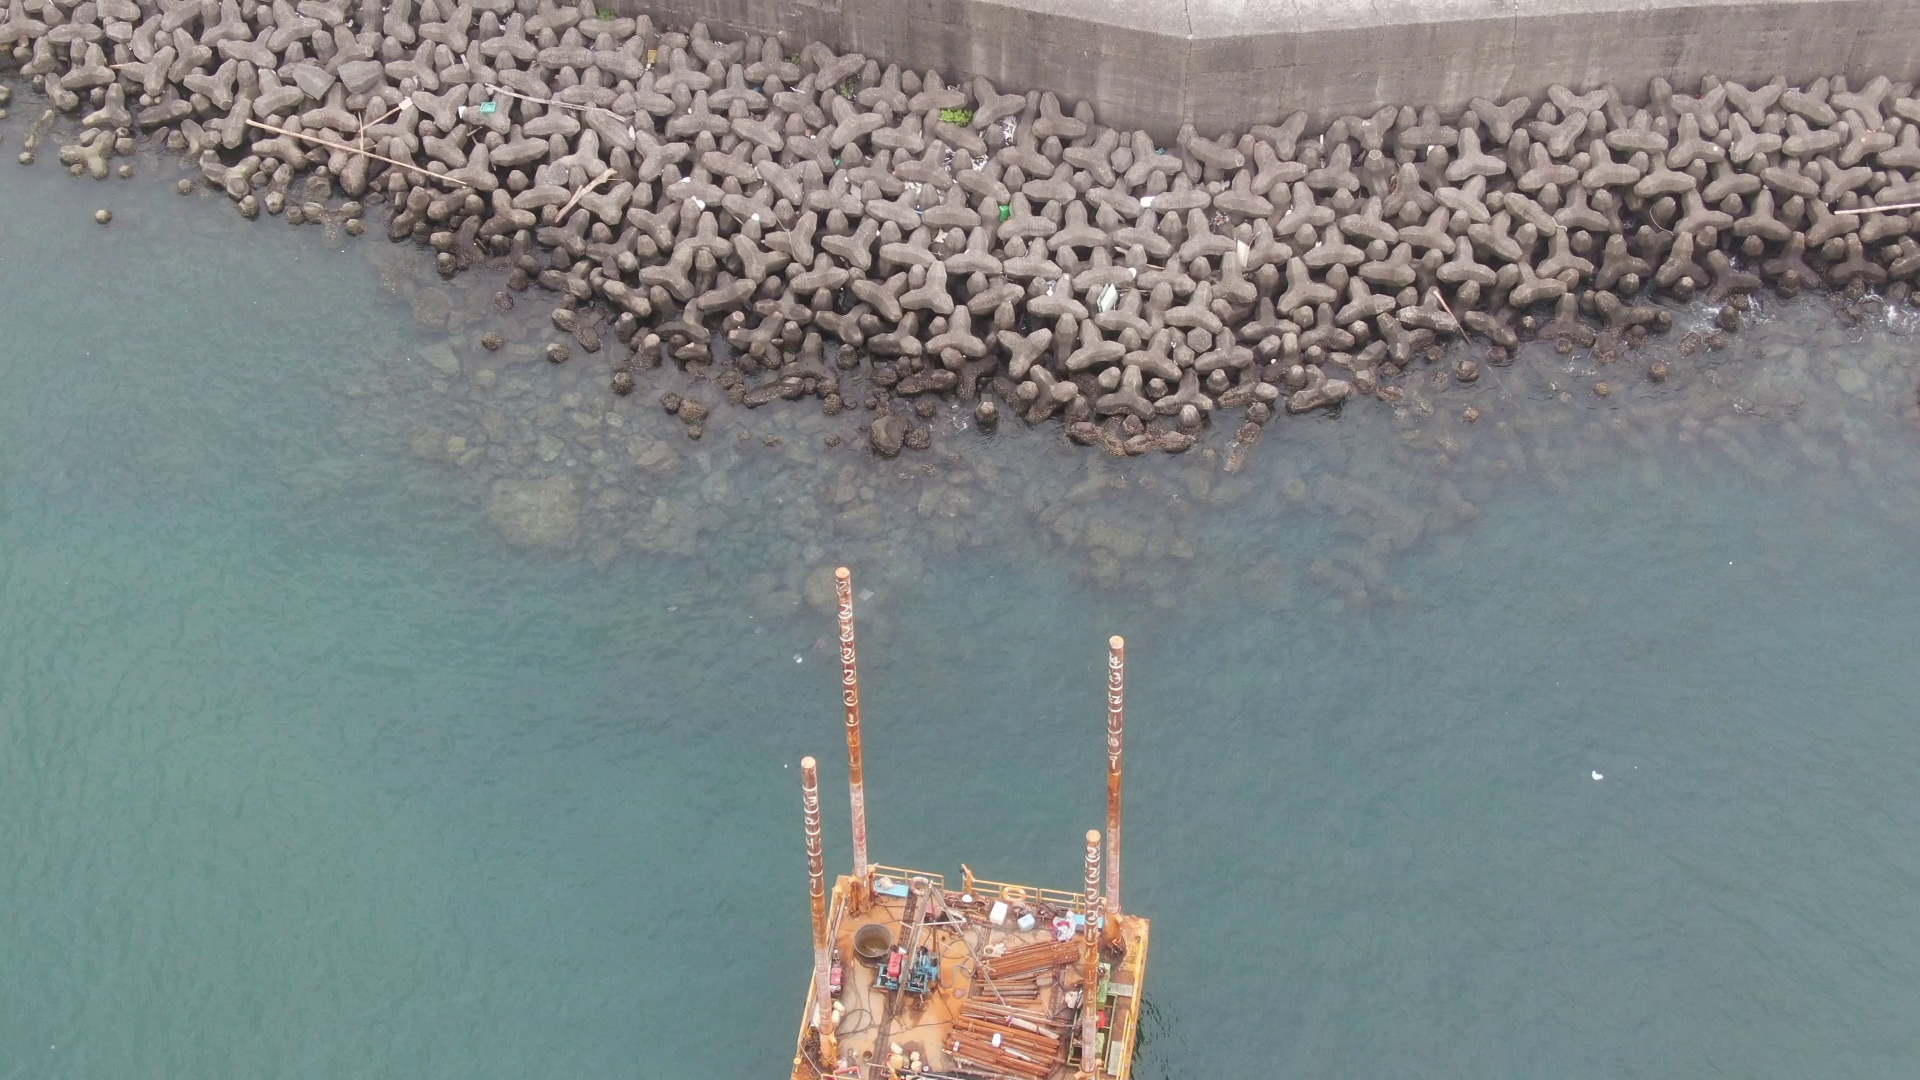garbage: (1091, 277, 1129, 315), (1229, 233, 1259, 272), (992, 196, 1022, 225), (472, 91, 502, 119)
